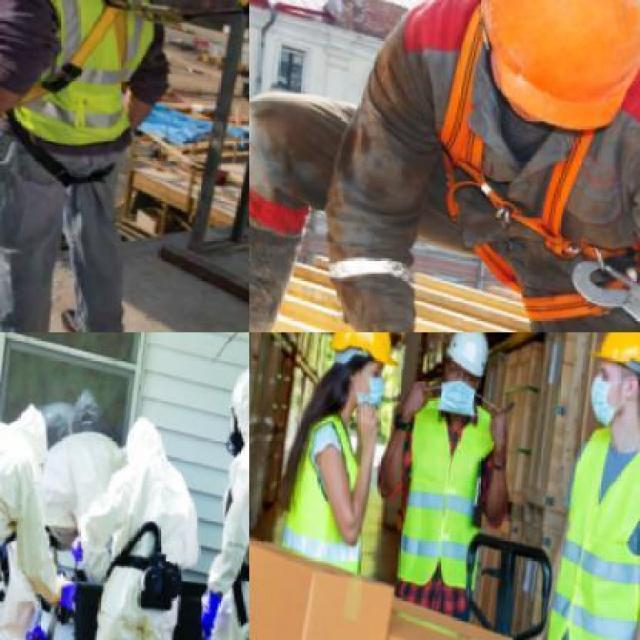hat: (448, 0, 638, 148), (314, 332, 416, 374), (578, 332, 638, 390), (430, 332, 492, 382)
